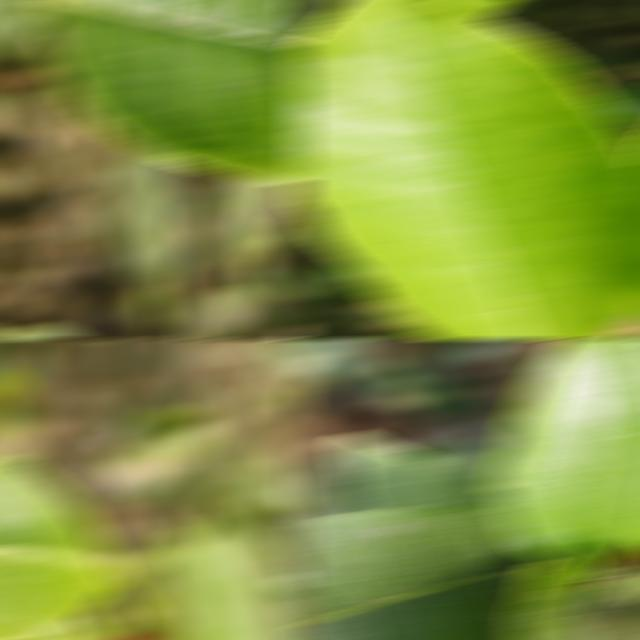Leaf: (292, 1, 640, 338), (37, 1, 308, 181), (292, 505, 542, 639), (496, 340, 640, 568), (0, 457, 125, 639), (155, 512, 289, 639), (334, 432, 511, 509), (109, 147, 192, 298), (80, 408, 221, 495), (510, 555, 594, 639), (214, 178, 290, 269), (0, 369, 37, 460), (0, 1, 53, 59)
